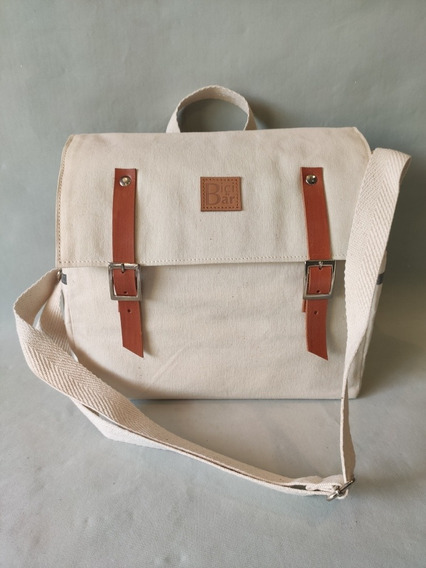cartera: (15, 83, 414, 402)
